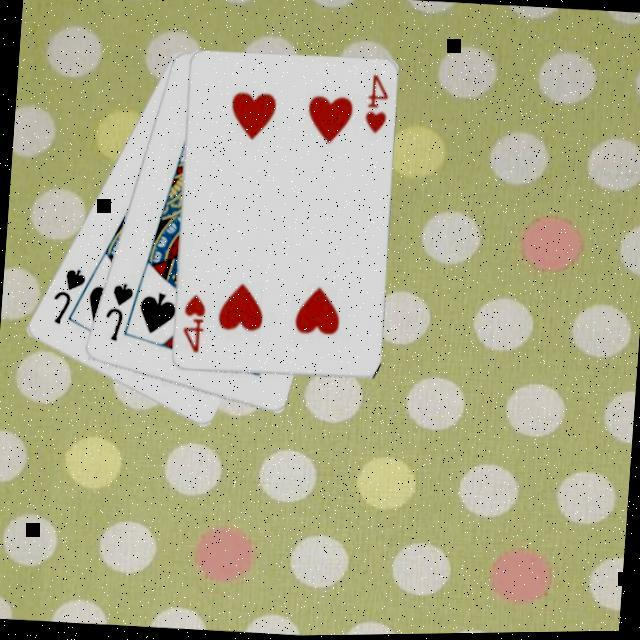4H: (175, 290, 208, 356), (358, 70, 390, 136)
JS: (45, 262, 87, 326), (98, 278, 134, 344)
